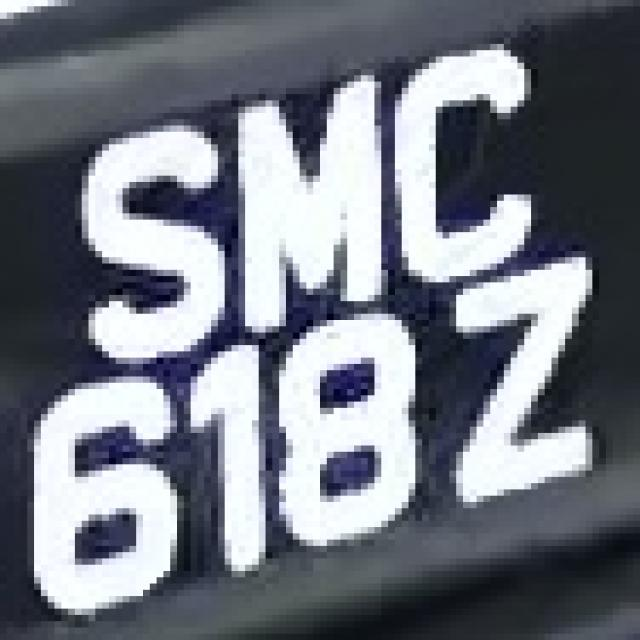1: (218, 332, 272, 590)
6: (21, 364, 198, 609)
8: (272, 295, 436, 565)
C: (388, 25, 552, 308)
M: (225, 69, 388, 326)
S: (75, 106, 231, 376)
Z: (429, 270, 620, 514)
